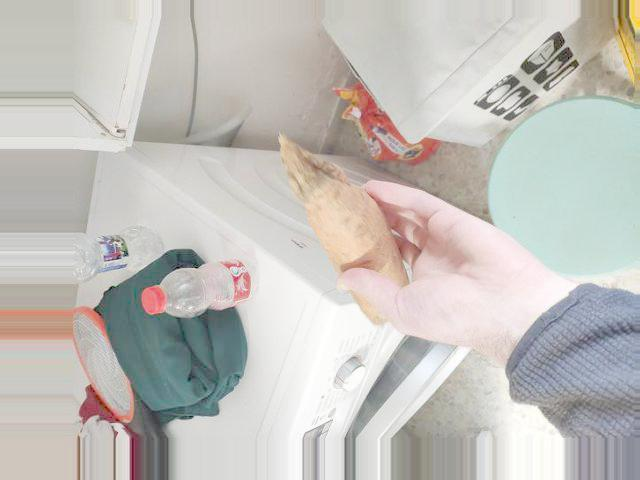sweet_potato: (302, 184, 421, 306)
